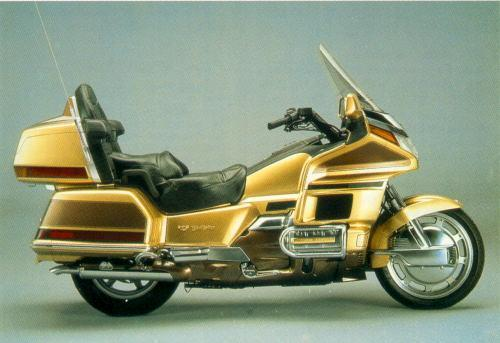Motorcycle: (0, 39, 496, 323)
